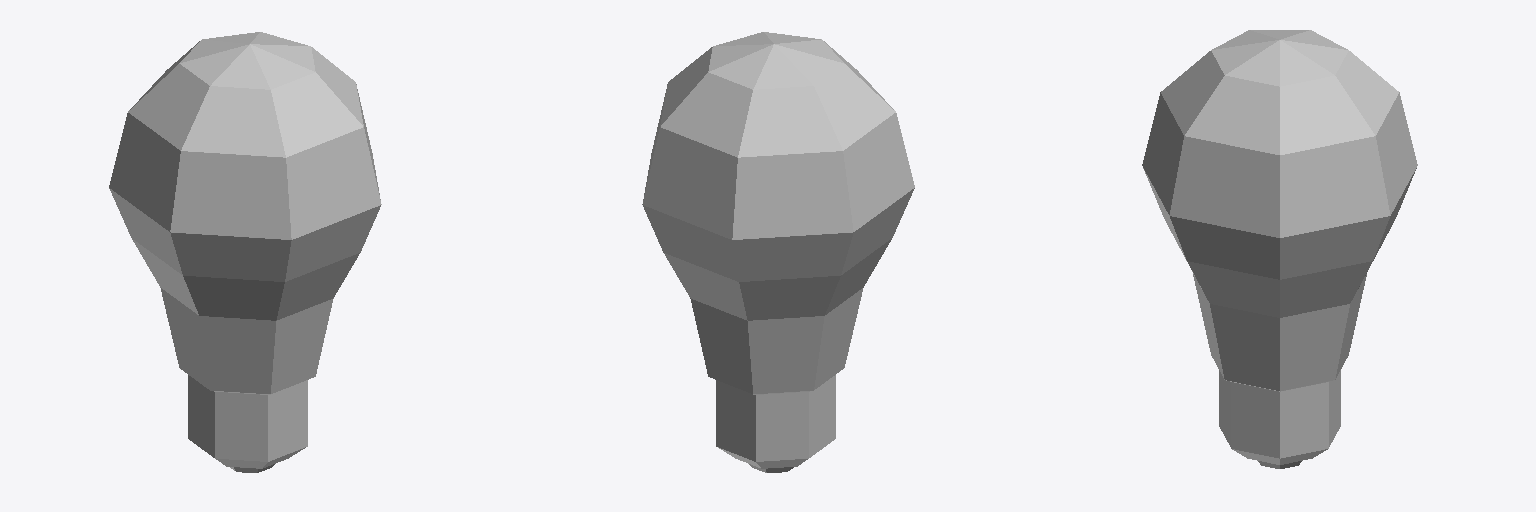
File: Lightbulb_C__1.obj
The picture shows the model from 3 angles: view 1: azimuth 30°, elevation 25°; view 2: azimuth 150°, elevation 25°; view 3: azimuth 270°, elevation 25°; orthographic projection.
Parts seen in each view (by area): view 1: sphere1, Cylinder2; view 2: sphere1, Cylinder2; view 3: sphere1, Cylinder2.
Part boxes in pixels (left/top/right/bottom): sphere1: left=109, top=32, right=381, bottom=394; Cylinder2: left=188, top=375, right=307, bottom=468; sphere1: left=642, top=32, right=914, bottom=394; Cylinder2: left=716, top=375, right=835, bottom=468; sphere1: left=1142, top=30, right=1417, bottom=391; Cylinder2: left=1219, top=370, right=1340, bottom=464.
Bounding box in the file's own units: 1.9 × 3.33 × 1.95.